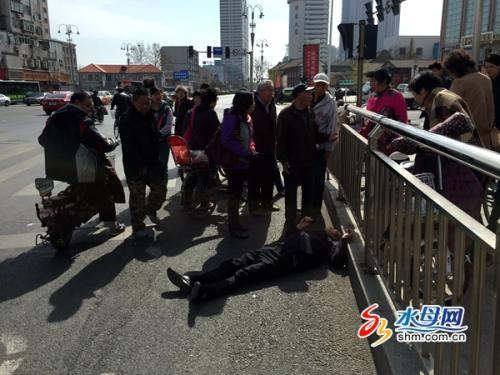10+: (29, 33, 500, 249)
down: (158, 211, 362, 306)
